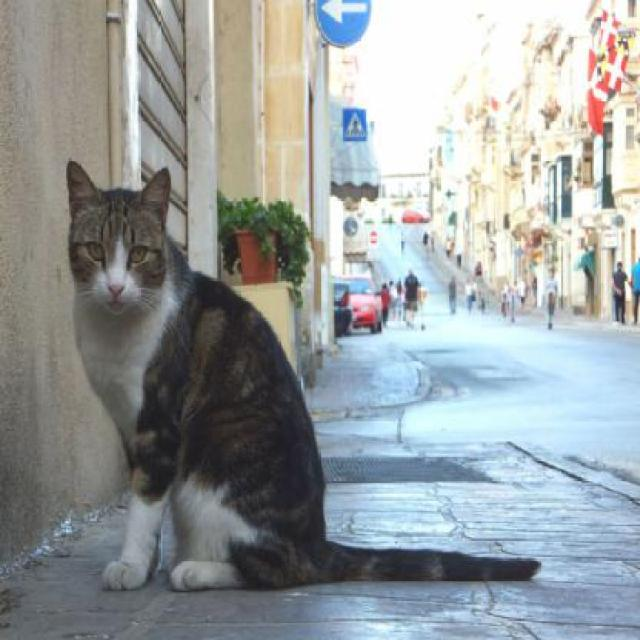cat: (63, 155, 543, 593)
